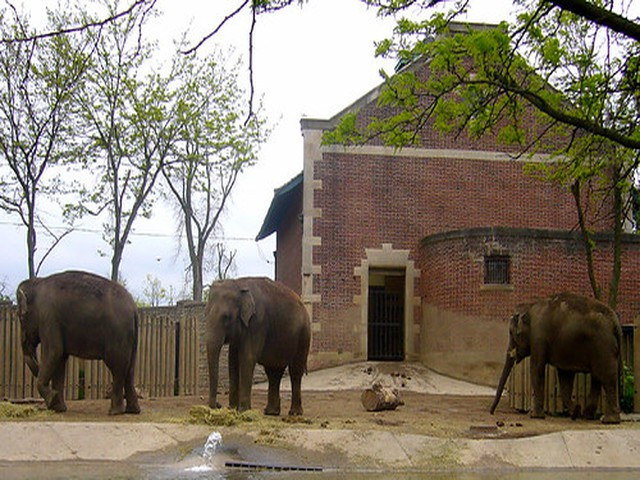Elephant: (12, 268, 147, 417), (488, 290, 626, 426), (204, 275, 314, 413)
